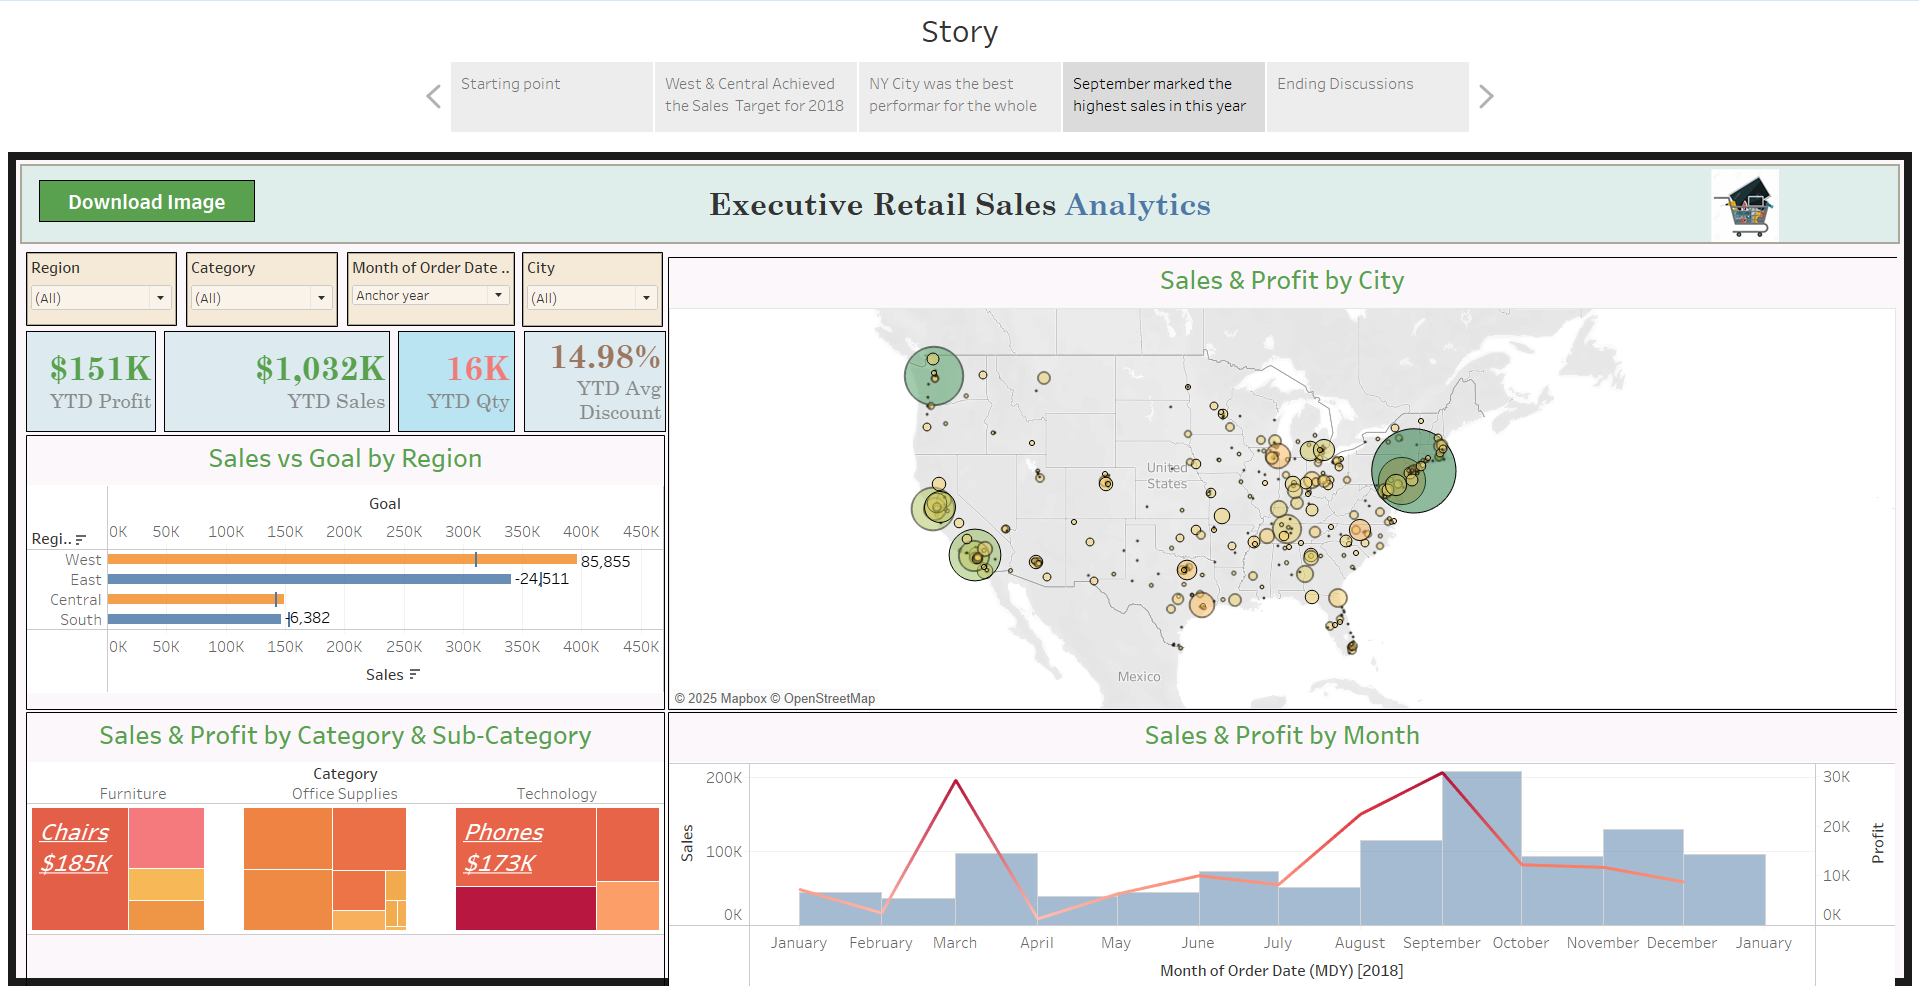

What the dashboard file says about the page in this screenshot:
{"tool":"tableau","page":{"name":"Dashboard 1","canvas":[1000,1000],"units":"permille","ordinal":0},"visuals":[{"type":"title","box":[4.8,10,990.3,109.9]},{"type":"image","param":"Image/images.jpeg","box":[867.2,20,90.5,87.4]},{"type":"dashboard-object","box":[16.3,33.7,113.5,49.9]},{"type":"filter","title":"Sheet 2","param":"[federated.0otv4zu1pa6xi91826qd8018jcip].[none:Region:nk]","box":[9.7,119.9,79.1,88.6]},{"type":"filter","title":"Sheet 3","param":"[federated.0otv4zu1pa6xi91826qd8018jcip].[none:Category:nk]","box":[93.5,119.9,79.7,89.9]},{"type":"filter","title":"Sheet 4","param":"[federated.0otv4zu1pa6xi91826qd8018jcip].[tmn:Order Date (MDY):qk]","box":[178,119.9,88.1,88.6]},{"type":"filter","title":"Sheet 5","param":"[federated.0otv4zu1pa6xi91826qd8018jcip].[none:City:nk]","box":[270.1,119.9,74.2,89.9]},{"type":"worksheet","title":"Sheet 5","mark":"Automatic","box":[346.4,126.1,645.8,543.1]},{"type":"worksheet","title":"Sheet 6 (2)","mark":"Automatic","box":[7.2,209.7,83.3,131.1]},{"type":"worksheet","title":"Sheet 6","mark":"Automatic","box":[90.5,209.7,90.5,131.1]},{"type":"worksheet","title":"Sheet 6 (3)","mark":"Automatic","box":[181,209.7,76,131.1]},{"type":"worksheet","title":"Sheet 6 (4)","mark":"Automatic","box":[257.1,209.7,90.5,131.1]},{"type":"worksheet","title":"Sheet 2","mark":"Automatic","rows":["Region"],"cols":["Sales","Goal"],"box":[9.7,339.6,335.6,329.6]},{"type":"worksheet","title":"Sheet 3","mark":"Automatic","cols":["Category"],"box":[9.7,671.7,335.6,333.3]},{"type":"worksheet","title":"Sheet 4","mark":"Automatic","rows":["Sales","Profit"],"cols":["Order Date (MDY)"],"box":[346.4,671.7,645.8,333.3]}]}

Visuals, with their boxes on the dashboard's canvas, which has no fixed pixel size, in thousandths of its width and height (x1, y1, x2, y2). These are canvas units, not pixel positions in the 1919x990 screenshot, which may show the page scaled, cropped or inside an application window:
title: 5, 10, 995, 120
image: 867, 20, 958, 107
dashboard-object: 16, 34, 130, 84
"Sheet 2" filter: 10, 120, 89, 208
"Sheet 3" filter: 94, 120, 173, 210
"Sheet 4" filter: 178, 120, 266, 208
"Sheet 5" filter: 270, 120, 344, 210
"Sheet 5" worksheet: 346, 126, 992, 669
"Sheet 6 (2)" worksheet: 7, 210, 90, 341
"Sheet 6" worksheet: 90, 210, 181, 341
"Sheet 6 (3)" worksheet: 181, 210, 257, 341
"Sheet 6 (4)" worksheet: 257, 210, 348, 341
"Sheet 2" worksheet: 10, 340, 345, 669
"Sheet 3" worksheet: 10, 672, 345, 1005
"Sheet 4" worksheet: 346, 672, 992, 1005
